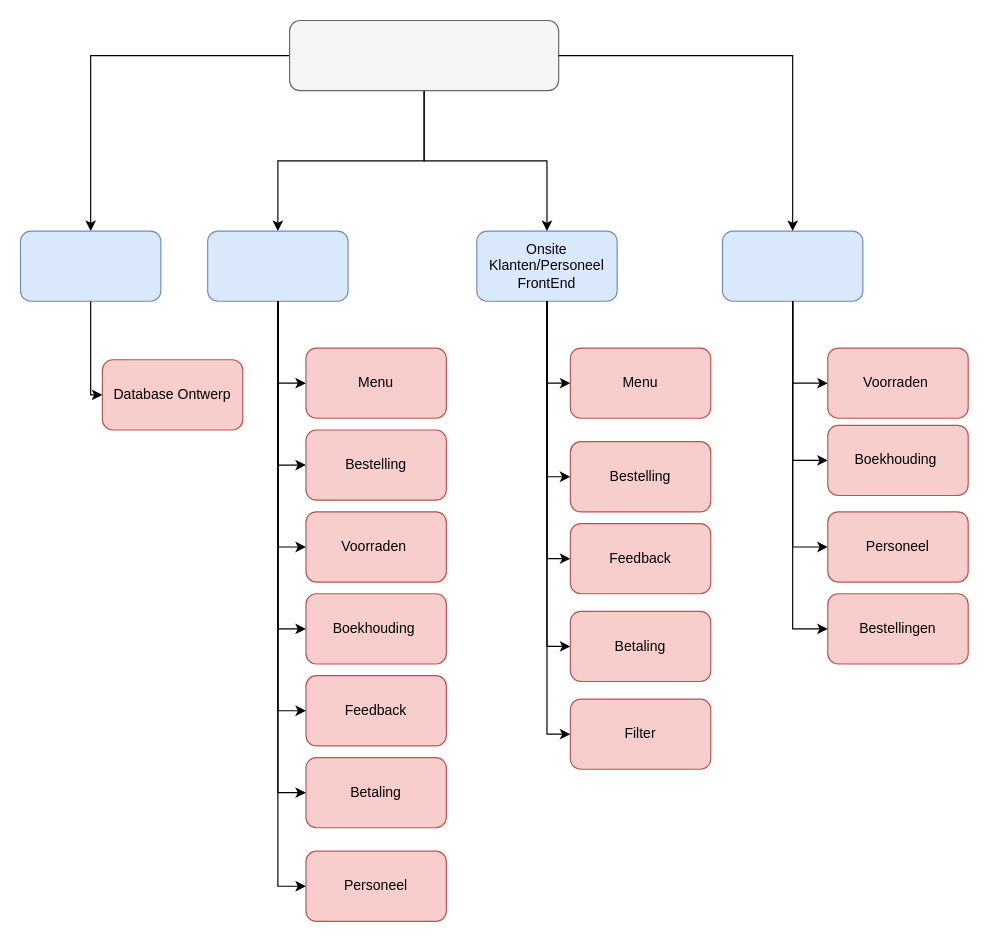
Some shapes in this 989 by 942 pixel diagram are drawn without their labels. The centre of each missing label's shape, as x and y in pixels:
"Database" goes at pixel 90 265.
"Onsite Admin FrontEnd" goes at pixel 792 265.
"Onsite Backend" goes at pixel 277 265.
"Restaurant order systeem" goes at pixel 423 55.
